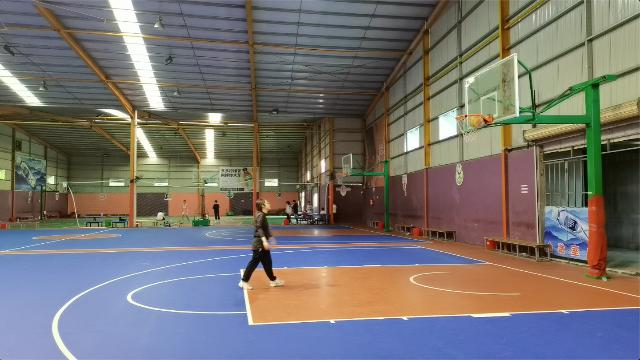basket: (455, 113, 483, 142)
goal: (468, 113, 484, 127)
